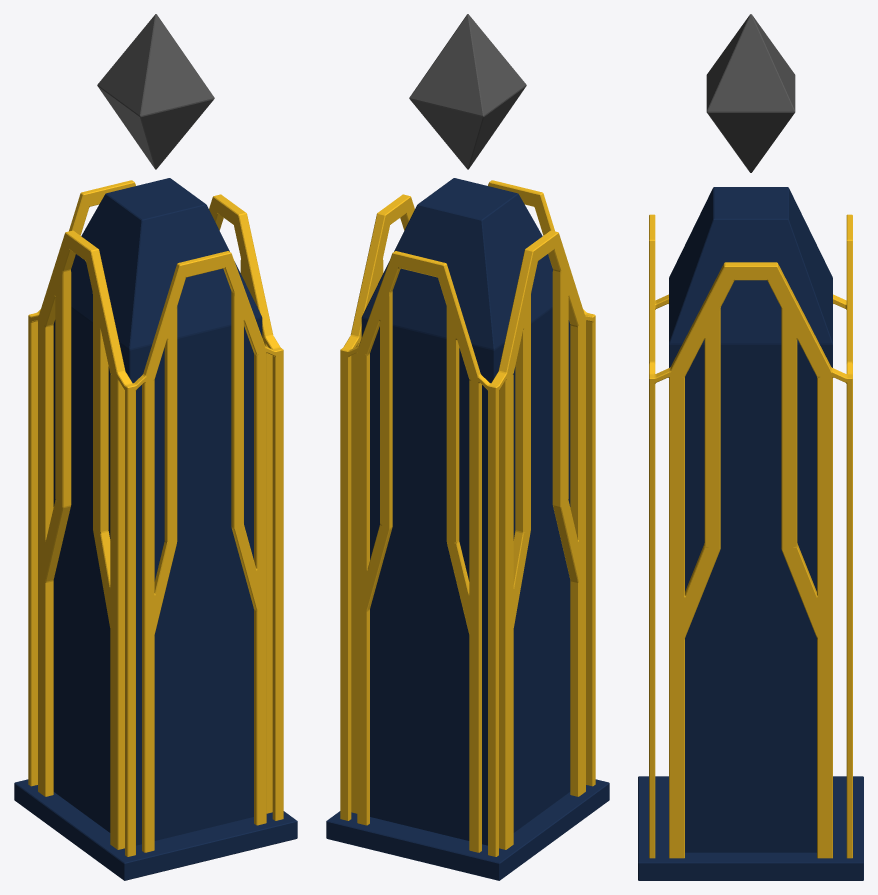
File: Room_pillar_lamp_seperated.fbx
3 views of the same model, side by side, from view 1: azimuth 30°, elevation 25°; view 2: azimuth 150°, elevation 25°; view 3: azimuth 270°, elevation 25° (orthographic). The views are drawn at different scales.
Visible parts, largest first — view 1: Room_pillar_lamp_seperated, Room_pillar_lamp_seperated.001; view 2: Room_pillar_lamp_seperated, Room_pillar_lamp_seperated.001; view 3: Room_pillar_lamp_seperated, Room_pillar_lamp_seperated.001.
Boxes of the visible parts, box(x1,y1,x2,y2) form: Room_pillar_lamp_seperated: box(14, 178, 297, 880); Room_pillar_lamp_seperated.001: box(97, 14, 214, 169); Room_pillar_lamp_seperated: box(326, 178, 609, 880); Room_pillar_lamp_seperated.001: box(409, 14, 526, 169); Room_pillar_lamp_seperated: box(638, 187, 863, 880); Room_pillar_lamp_seperated.001: box(706, 14, 795, 172).
Size of the model in its own units: 50 by 221 by 55.
